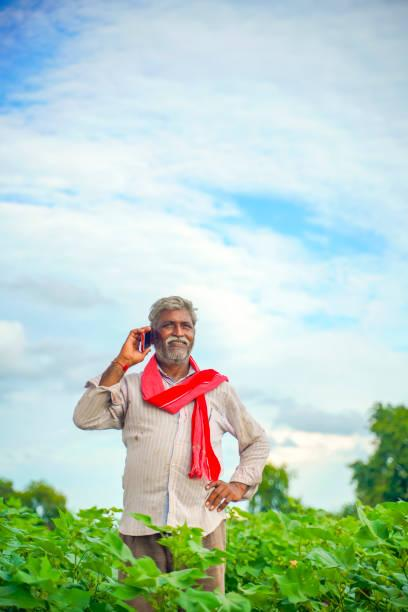Human: (69, 291, 269, 612)
